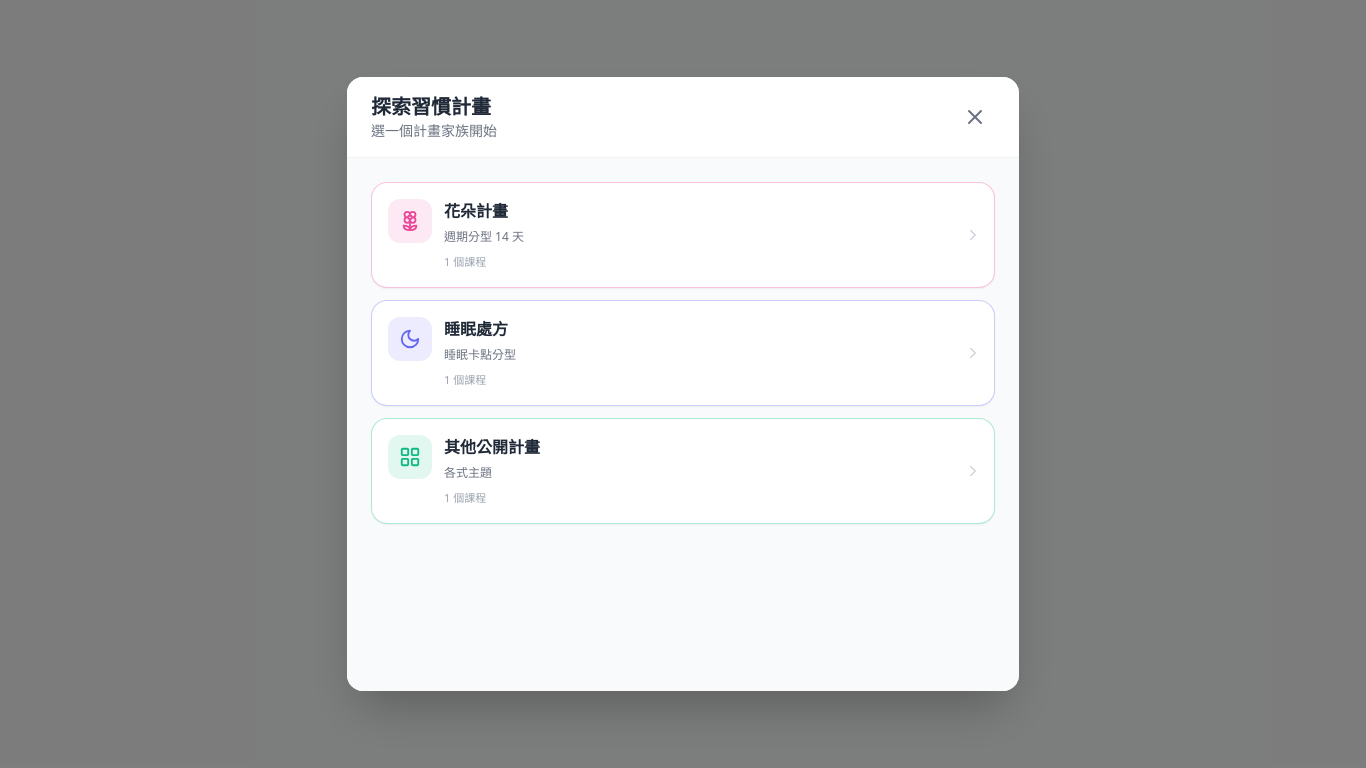
Test: TemplateExplorer 兩層 › 點花朵家族 → 第二層顯示該家族課程，不顯示他家族課程
The width and height of the screenshot is (1366, 768).
Click the heading "花朵計畫" at (476, 211), box top-left (444, 200), bottom-right (508, 222)
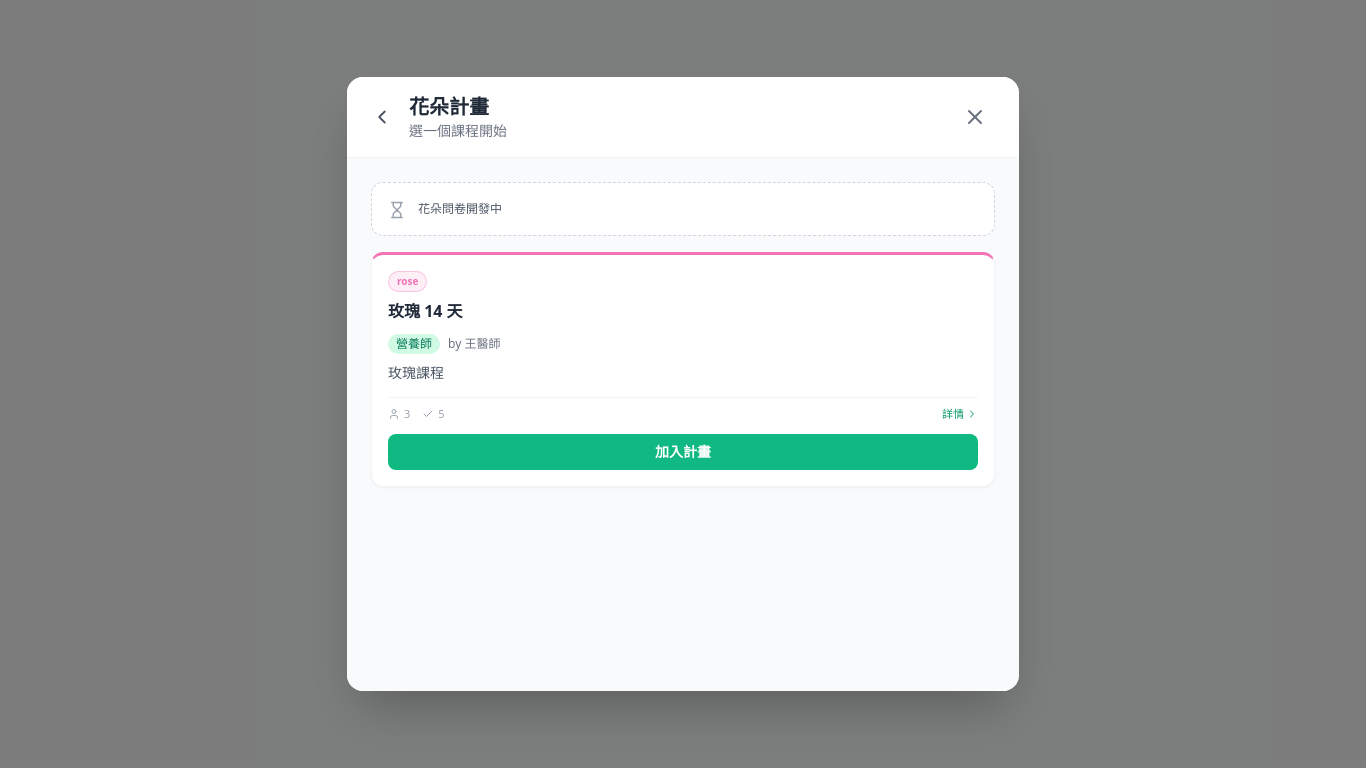
Expected: the heading "玫瑰 14 天" is shown, top-left (388, 300), bottom-right (463, 322)
